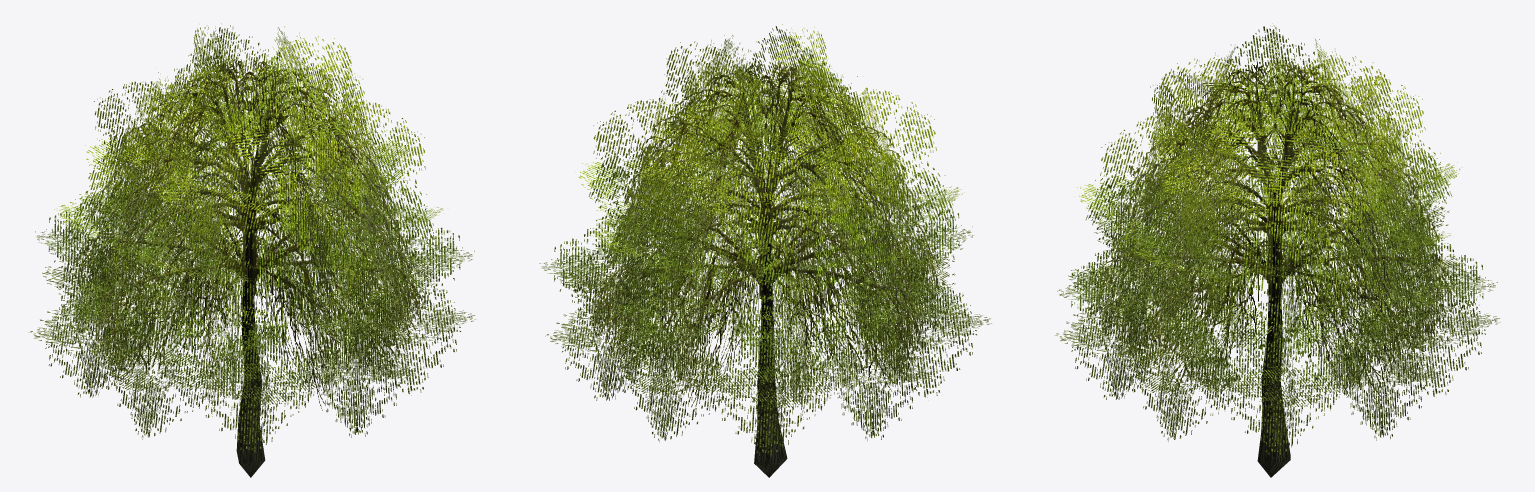
The model's file is wilg_4.fbx.
3 views of the same model, side by side, from view 1: azimuth 30°, elevation 25°; view 2: azimuth 150°, elevation 25°; view 3: azimuth 270°, elevation 25° (orthographic).
Parts seen in each view (by area): view 1: wilg_4; view 2: wilg_4; view 3: wilg_4.
Part boxes in pixels (left/top/right/bottom): wilg_4: left=29, top=23, right=475, bottom=477; wilg_4: left=539, top=24, right=991, bottom=477; wilg_4: left=1055, top=23, right=1500, bottom=477.
Bounding box in the file's own units: 1997 × 2047 × 1977.
